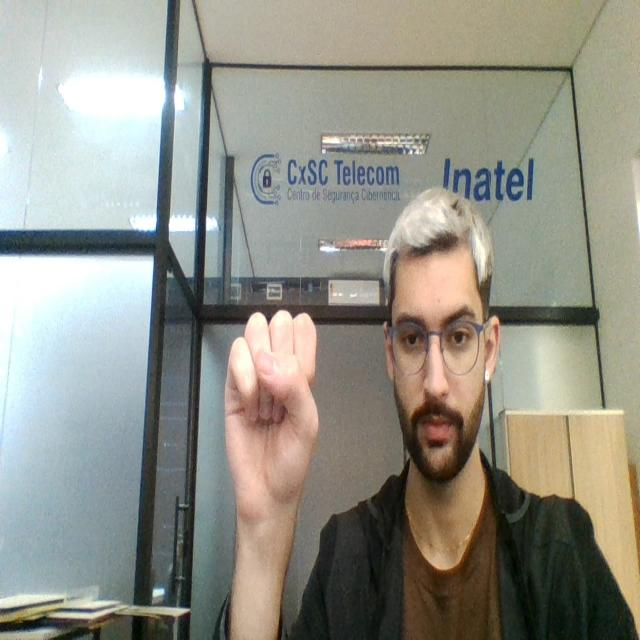S: (221, 306, 322, 507)
